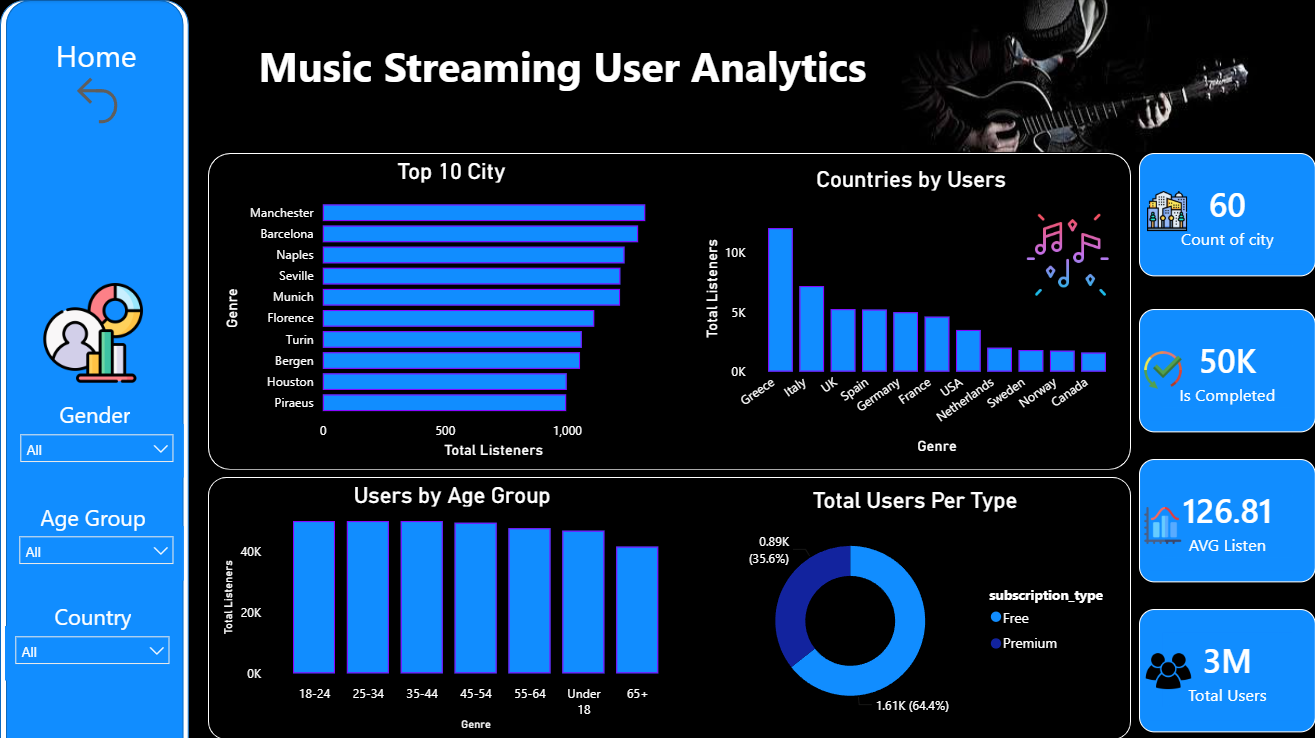

Layout of this report page (visuals, bound fields, positions):
{"tool":"powerbi","page":{"name":"User Analytics","canvas":[1280,720],"ordinal":2},"visuals":[{"type":"shape","box":[0,0,183.6,899.7],"z":2000},{"type":"shape","box":[6.1,0,172.6,892.4],"z":3000},{"type":"slicer","fields":{"Values":["dim_user.age_group"]},"box":[8.8,511.6,170.2,52.5],"z":4000},{"type":"slicer","fields":{"Values":["dim_user.gender"]},"box":[9.7,412.4,169.2,51.6],"z":5000},{"type":"slicer","fields":{"Values":["dim_geo.country"]},"box":[4.9,608.9,170.2,52.5],"z":6000},{"type":"shape","box":[16.5,580.7,147.8,36],"z":7000},{"type":"shape","box":[18.5,384.2,147.8,36],"z":8000},{"type":"shape","box":[16.5,484.4,147.8,36],"z":9000},{"type":"shape","box":[19.5,32.8,148.3,36.5],"z":10000},{"type":"shape","box":[226.6,14.6,641,96.3],"z":11000},{"type":"cardVisual","fields":{"Data":["Sum(dim_user.user_id)"]},"box":[1107.8,592.3,172.2,119.6],"z":12000},{"type":"cardVisual","fields":{"Data":["Avg(fact_listens.listen_seconds)"]},"box":[1107.8,446.4,172.2,119.6],"z":13000},{"type":"cardVisual","fields":{"Data":["CountNonNull(fact_listens.is_completed)"]},"box":[1107.8,300.5,172.2,119.6],"z":14000},{"type":"cardVisual","fields":{"Data":["Count(dim_geo.city)"]},"box":[1107.8,148.8,172.2,119.6],"z":15000},{"type":"image","box":[843.3,0,436.7,147.8],"z":16000},{"type":"image","box":[1115.6,185.8,38.9,38.9],"z":17000},{"type":"image","box":[1111.7,340.4,38.9,38.9],"z":18000},{"type":"actionButton","box":[65.7,69.3,99.7,57.1],"z":19000},{"type":"image","box":[1105.9,630.3,60.3,44.7],"z":20000},{"type":"image","box":[1104.9,493.1,52.5,36],"z":21000},{"type":"image","box":[32.1,275.3,116.7,97.3],"z":22000},{"type":"shape","box":[202.3,464,897.8,255.8],"z":23000},{"type":"clusteredColumnChart","title":"Users by Age Group","fields":{"Category":["dim_user.age_group"],"Y":["CountNonNull(fact_listens.user_id)"]},"box":[212,468.8,455.2,246.1],"z":24000},{"type":"donutChart","title":"Total Users Per Type","fields":{"Y":["CountNonNull(dim_user.user_id)"],"Category":["dim_user.subscription_type"]},"box":[686.7,473.7,406.6,236.4],"z":25000},{"type":"shape","box":[202.3,148.8,897.8,308.3],"z":26000},{"type":"clusteredColumnChart","title":"Countries by Users","fields":{"Category":["dim_geo.country"],"Y":["CountNonNull(fact_listens.user_id)"]},"box":[678.9,161.5,414.3,285],"z":26001},{"type":"barChart","title":"Top 10 City","fields":{"Category":["dim_geo.city"],"Y":["CountNonNull(fact_listens.user_id)"]},"box":[212,153.7,454.2,296.7],"z":26002},{"type":"image","box":[996,205.2,84.6,84.6],"z":26003}]}

Visuals, with their boxes in screenshot pixels (x1, y1, x2, y2), scaled from the page's 1280x720 canvas onto the 1315x738 screenshot:
shape: <region>0, 0, 189, 737</region>
shape: <region>6, 0, 184, 737</region>
slicer - dim_user.age_group: <region>9, 524, 184, 578</region>
slicer - dim_user.gender: <region>10, 423, 184, 476</region>
slicer - dim_geo.country: <region>5, 624, 180, 678</region>
shape: <region>17, 595, 169, 632</region>
shape: <region>19, 394, 171, 431</region>
shape: <region>17, 497, 169, 533</region>
shape: <region>20, 34, 172, 71</region>
shape: <region>233, 15, 891, 114</region>
cardVisual - Sum(dim_user.user_id): <region>1138, 607, 1314, 730</region>
cardVisual - Avg(fact_listens.listen_seconds): <region>1138, 458, 1314, 580</region>
cardVisual - CountNonNull(fact_listens.is_completed): <region>1138, 308, 1314, 431</region>
cardVisual - Count(dim_geo.city): <region>1138, 153, 1314, 275</region>
image: <region>866, 0, 1314, 151</region>
image: <region>1146, 190, 1186, 230</region>
image: <region>1142, 349, 1182, 389</region>
actionButton: <region>67, 71, 170, 130</region>
image: <region>1136, 646, 1198, 692</region>
image: <region>1135, 505, 1189, 542</region>
image: <region>33, 282, 153, 382</region>
shape: <region>208, 476, 1130, 737</region>
"Users by Age Group" clusteredColumnChart: <region>218, 481, 685, 733</region>
"Total Users Per Type" donutChart: <region>705, 486, 1123, 728</region>
shape: <region>208, 153, 1130, 469</region>
"Countries by Users" clusteredColumnChart: <region>697, 166, 1123, 458</region>
"Top 10 City" barChart: <region>218, 158, 684, 462</region>
image: <region>1023, 210, 1110, 297</region>
